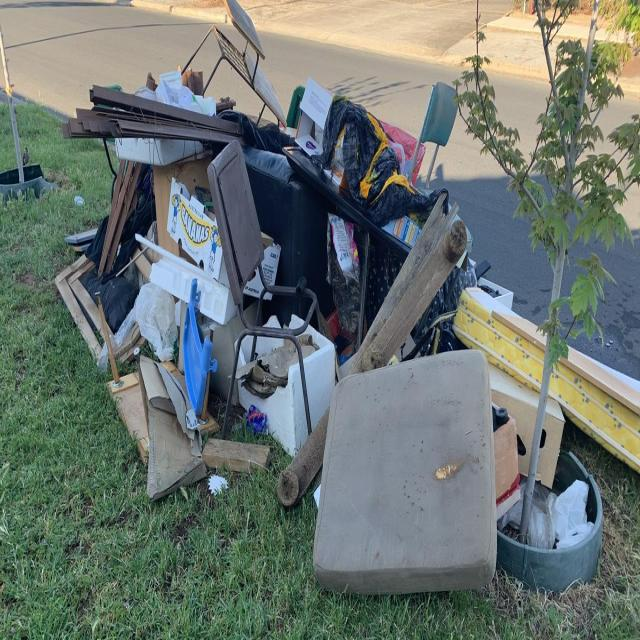dumping: (79, 9, 599, 580)
